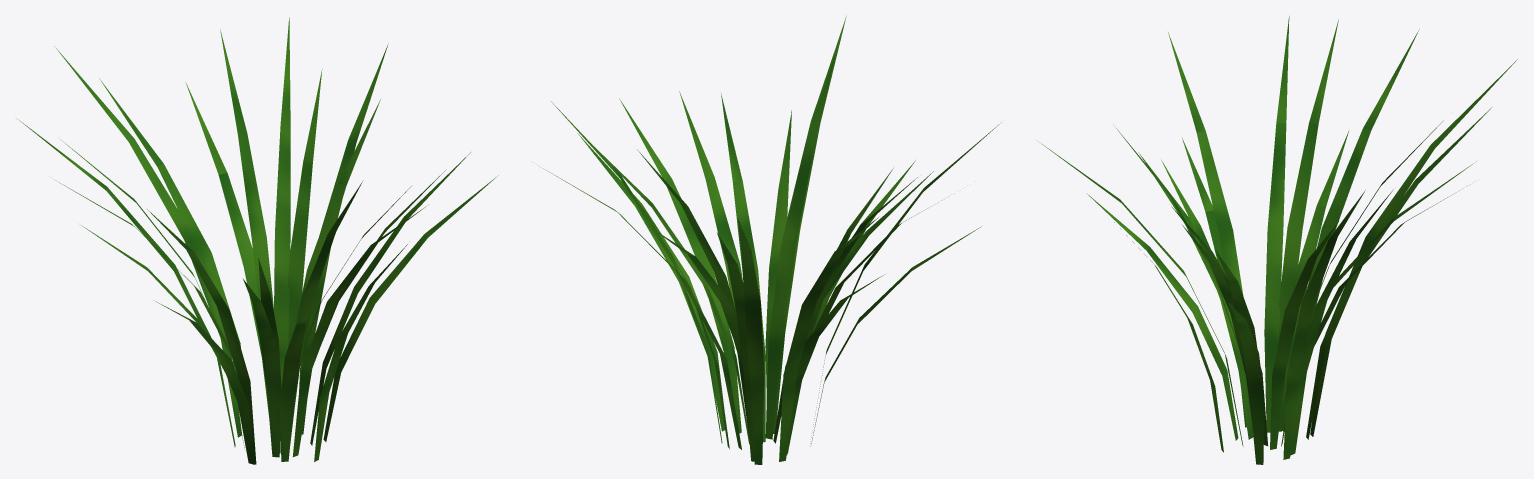
The model's file is paddy_clump_green.glb.
The picture shows the model from 3 angles, left to right: view 1: azimuth 30°, elevation 25°; view 2: azimuth 150°, elevation 25°; view 3: azimuth 270°, elevation 25°; orthographic projection. The views are drawn at different scales.
Visible parts, largest first — view 1: Paddy_Green; view 2: Paddy_Green; view 3: Paddy_Green.
Part boxes in pixels (<box>): Paddy_Green: <box>16,17,498,464</box>; Paddy_Green: <box>539,16,1001,464</box>; Paddy_Green: <box>1039,16,1517,464</box>.
Size of the model in its own units: 0.7806 by 0.6099 by 0.7733.
Materials: 1 (1 with a texture image).
